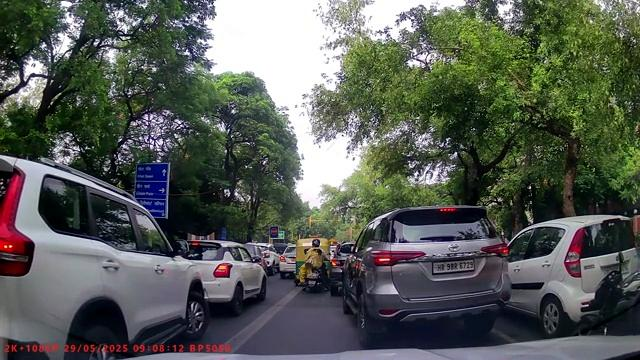passenger_with_helmet: (299, 239, 330, 293)
